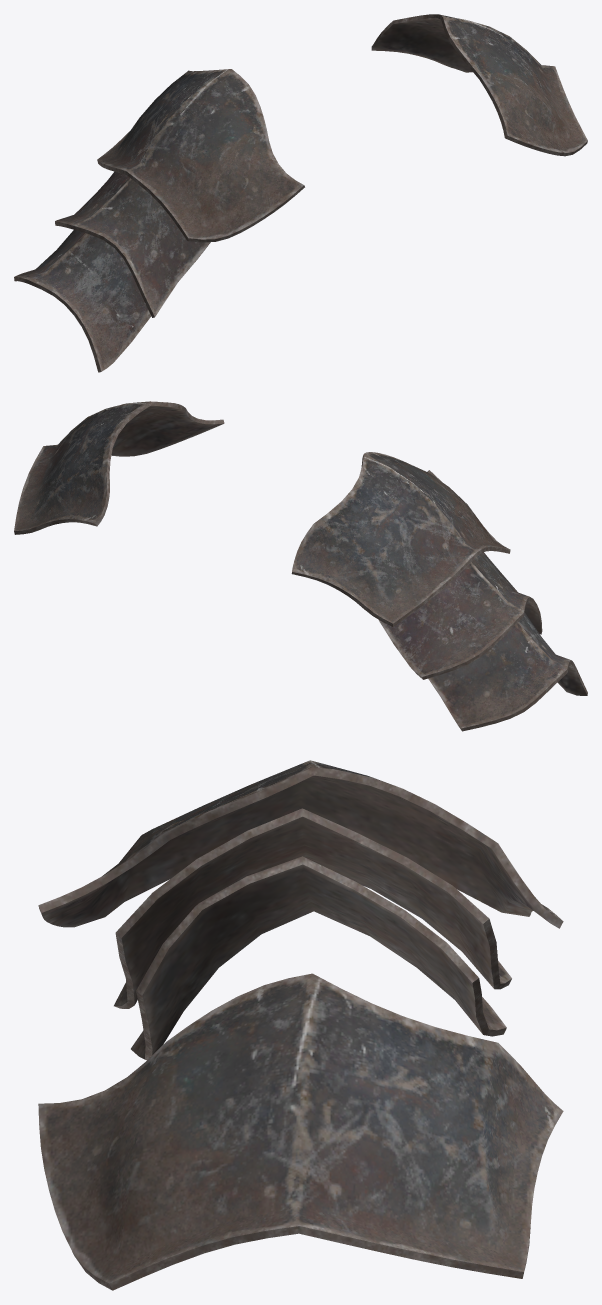
The model's file is sk_dg_uruk_pauldron_heavy_b.fbx.
3 views of the same model, one above another, from view 1: azimuth 30°, elevation 25°; view 2: azimuth 150°, elevation 25°; view 3: azimuth 270°, elevation 25° (orthographic). The views are drawn at different scales.
Visible parts, largest first — view 1: sk_dg_uruk_pauldron_heavy_b; view 2: sk_dg_uruk_pauldron_heavy_b; view 3: sk_dg_uruk_pauldron_heavy_b.
Part boxes in pixels (x1,y1,x2,y2): sk_dg_uruk_pauldron_heavy_b: (14, 14, 587, 372); sk_dg_uruk_pauldron_heavy_b: (14, 401, 587, 731); sk_dg_uruk_pauldron_heavy_b: (38, 760, 563, 1290).
Size of the model in its own units: 0.7148 by 0.3109 by 0.2986.
Materials: 1 (1 with a texture image).
